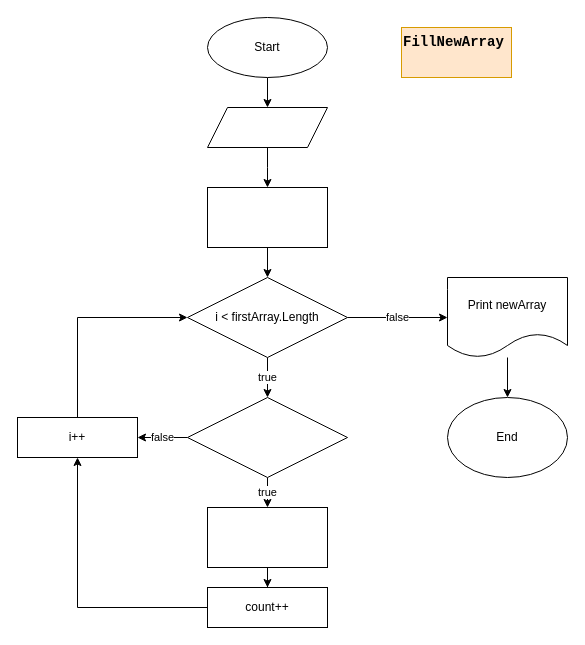
Some shapes in this 585 by 645 pixel diagram are drawn without their labels. The centre of each missing label's shape, as x and y in pixels:
"firstArray" goes at pixel 267 127.
"firstArray[i].Length <=3" goes at pixel 267 437.
"int i = 0 int count = 0 firstArray.Length" goes at pixel 267 217.
"newArray [ count ] = firstArray [ i ]" goes at pixel 267 537.
